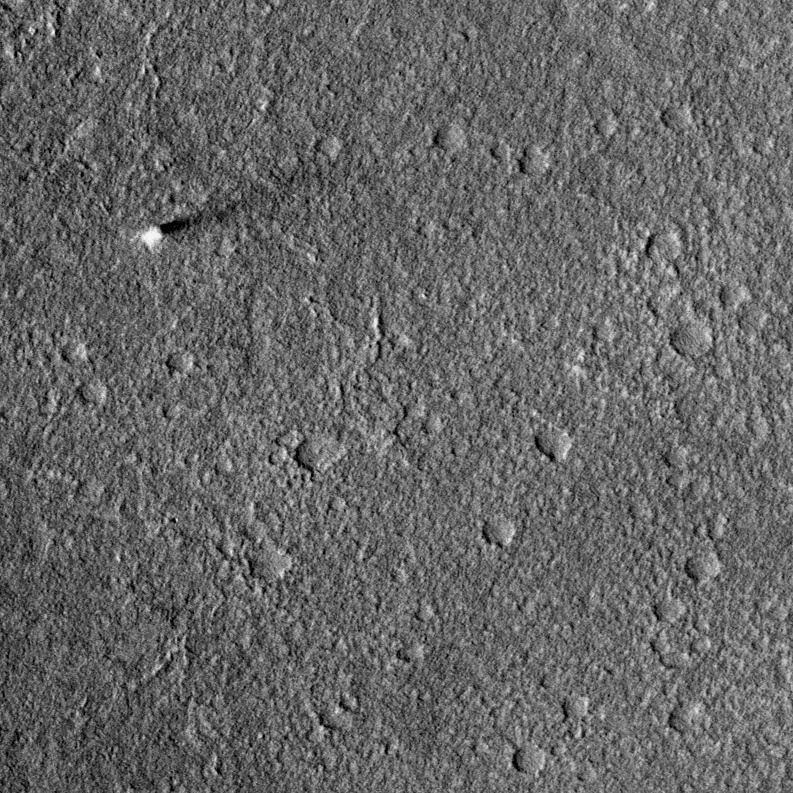dust_devil: (136, 197, 249, 250)
